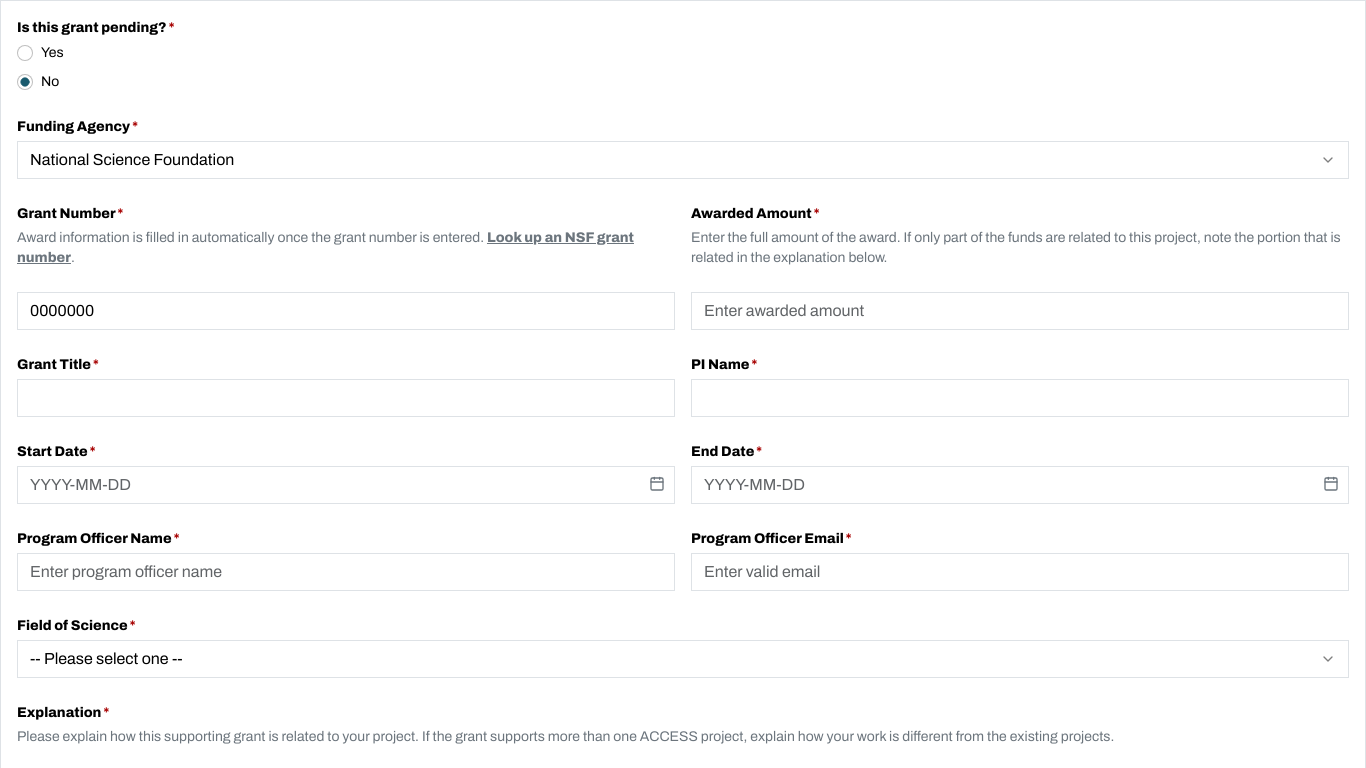
Test: GrantFields › the NSF lookup on blurring the grant number › clears a previous not-found message on the next blur, even when no lookup follows
Click the field labelled "Grant Number*". click: point(346, 311)
box: x1=17 y1=292 x2=675 y2=330
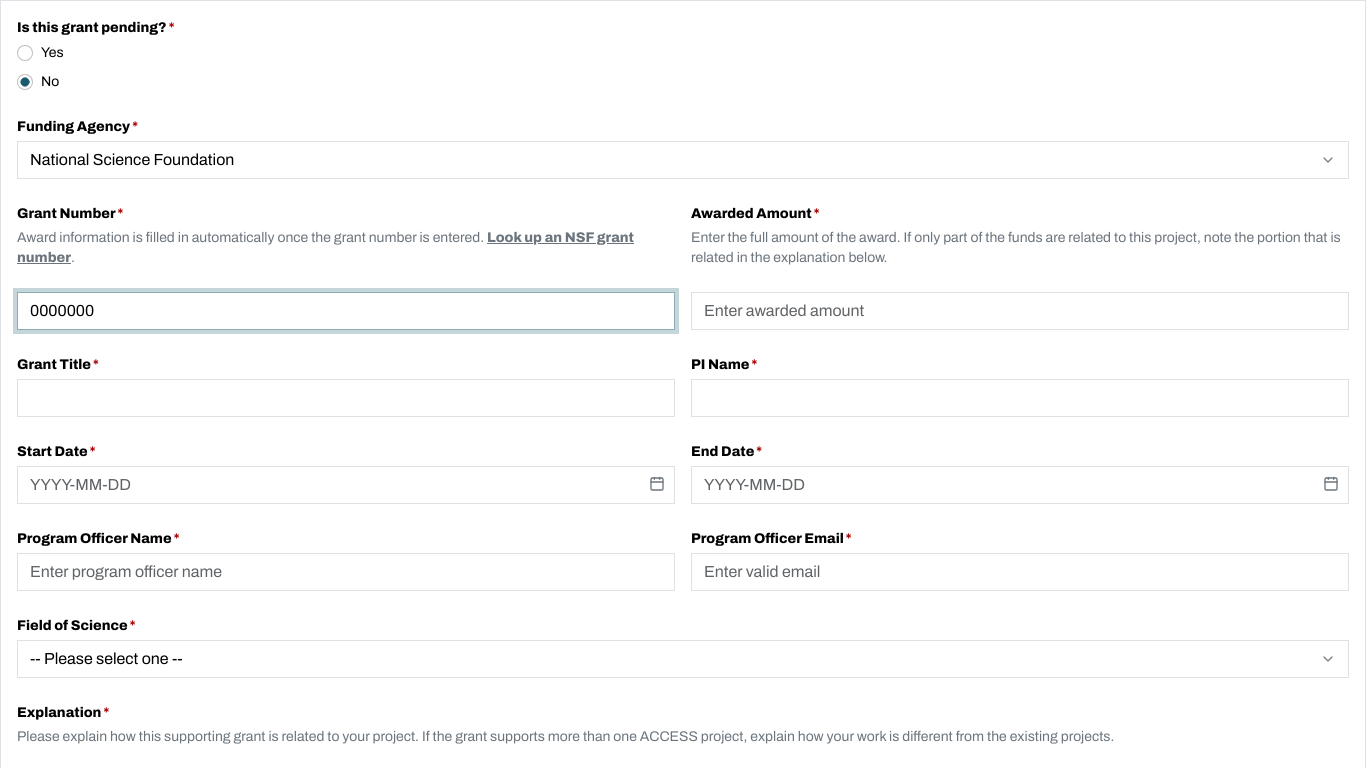
Press Tab
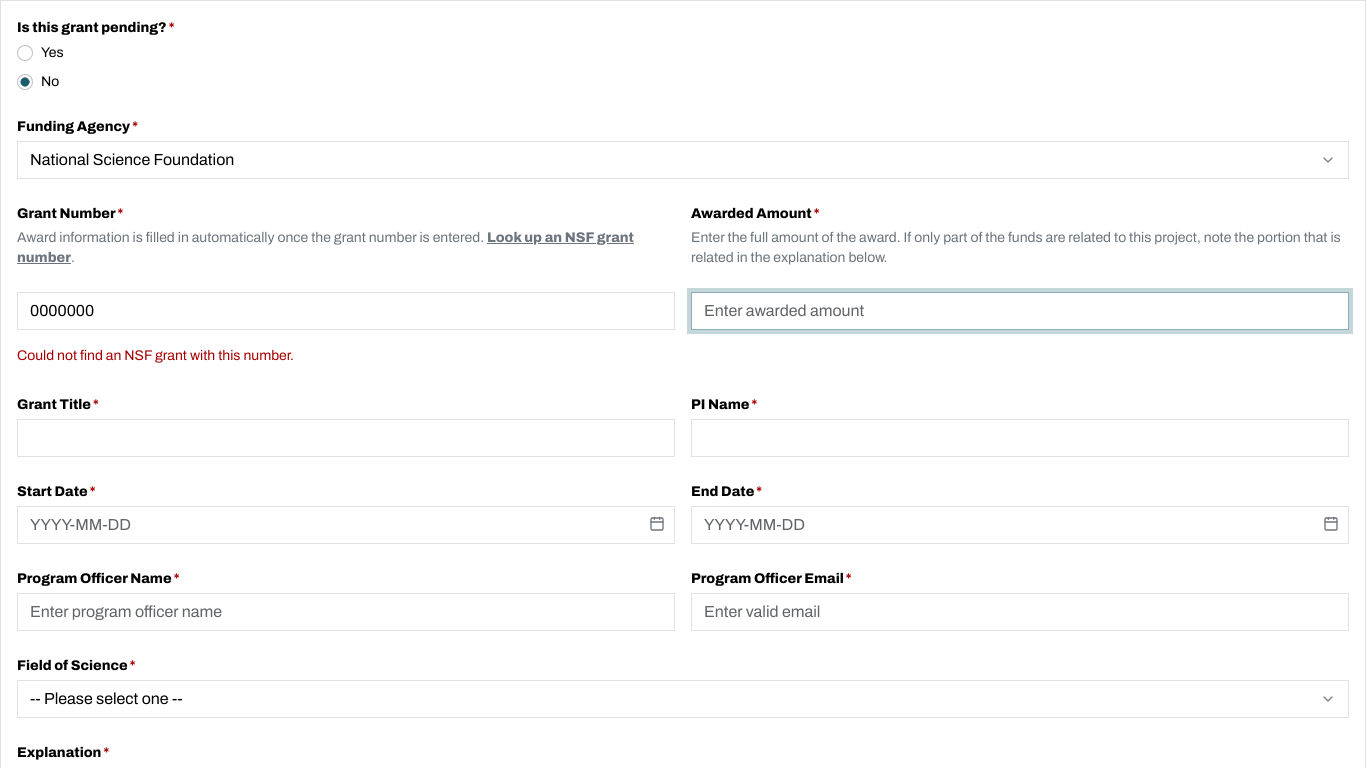
Expected: the text "Could not find an NSF grant with this number." is shown, x1=17 y1=348 x2=294 y2=363
Clear the field labelled "Grant Number*". click: point(346, 311)
box: x1=17 y1=292 x2=675 y2=330
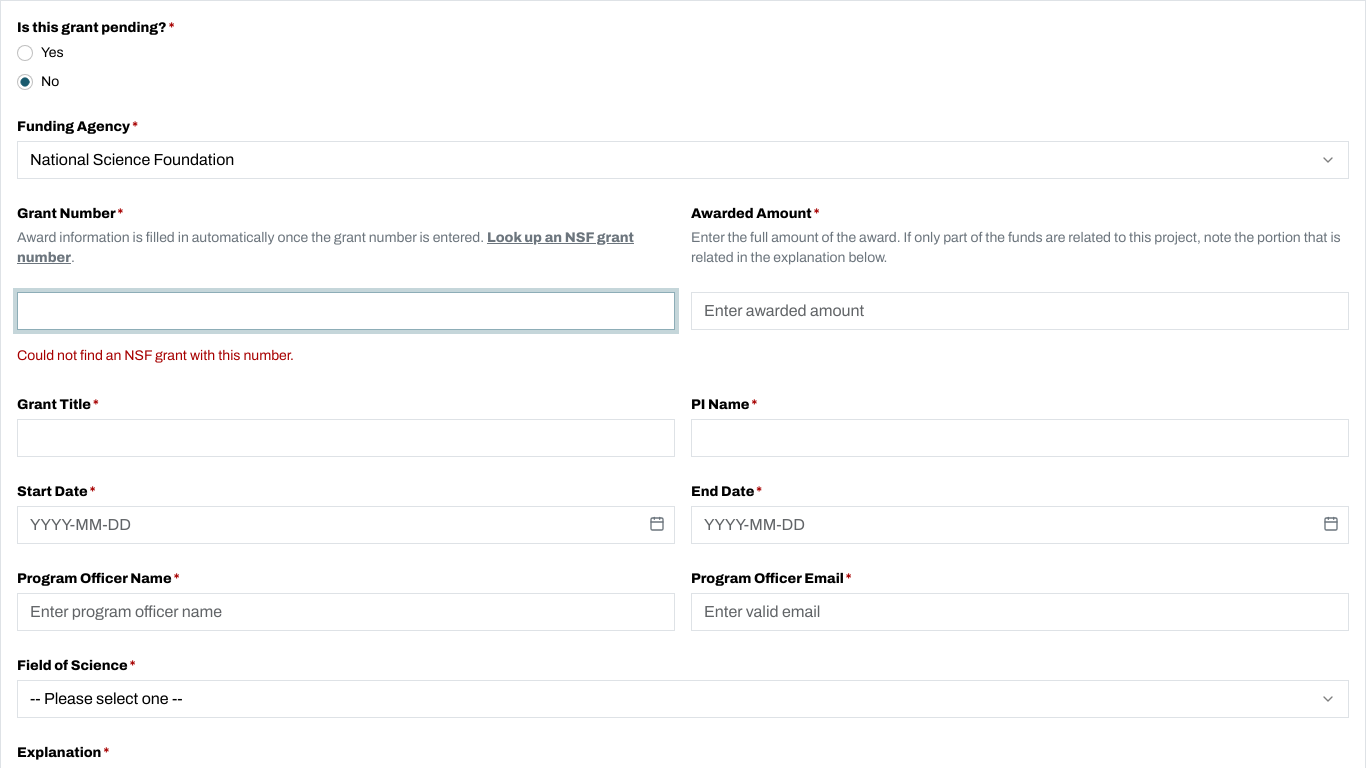
Press Tab
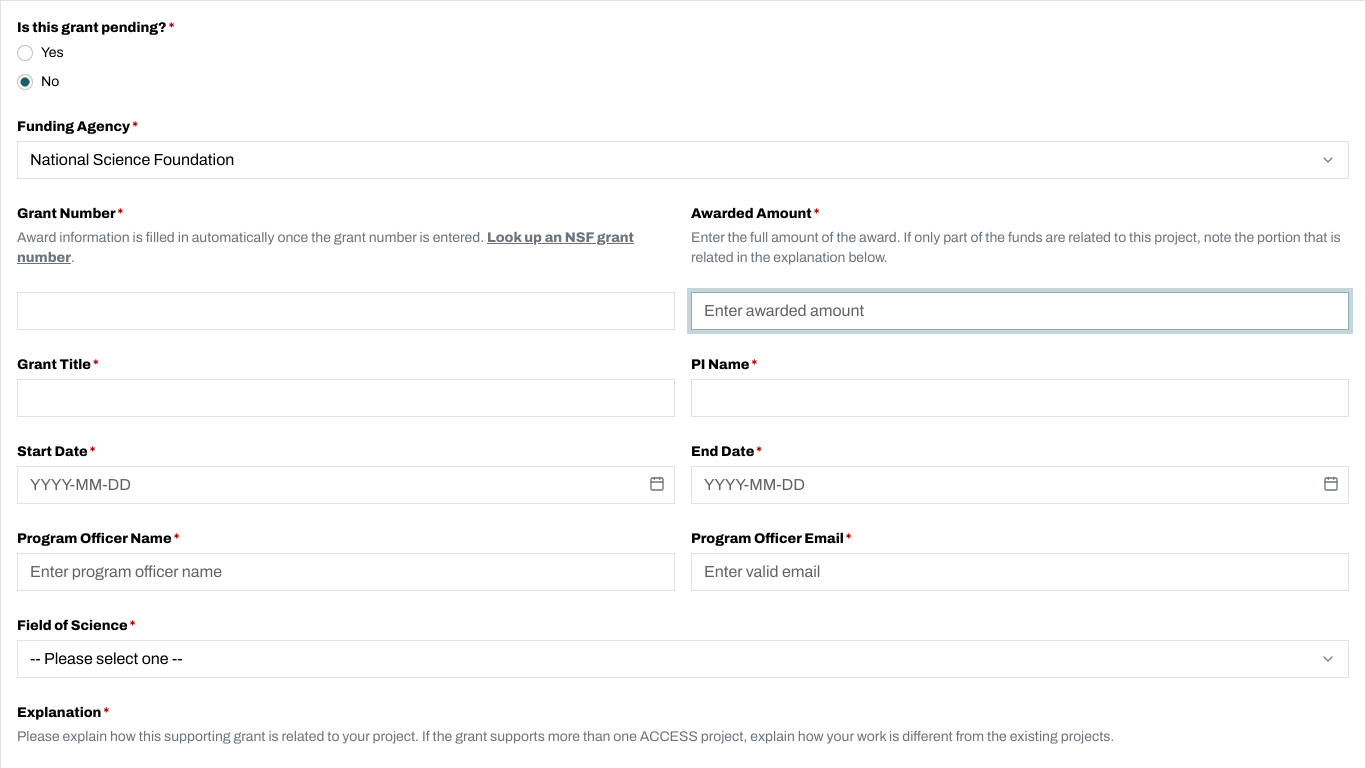
Expected: the text "Could not find an NSF grant with this number." is gone
